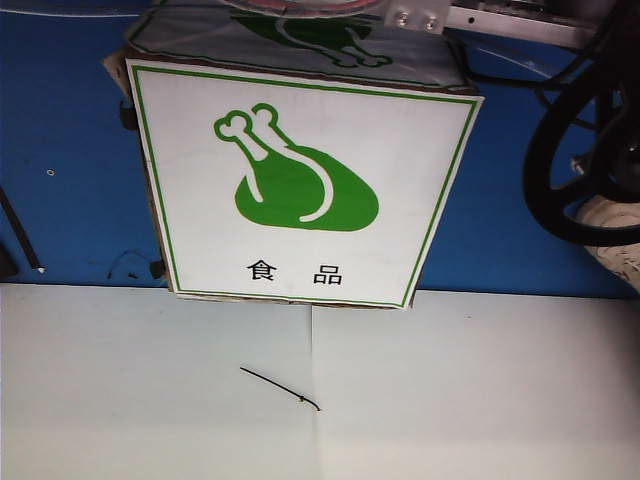Cube_food: (209, 96, 396, 295)
